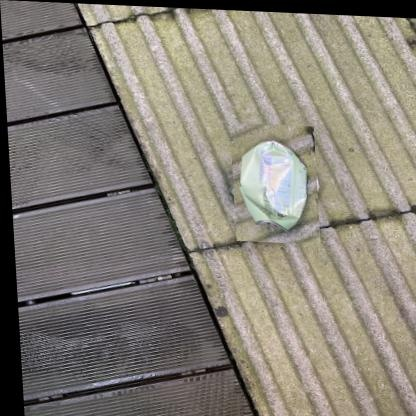trash: (240, 141, 306, 229)
